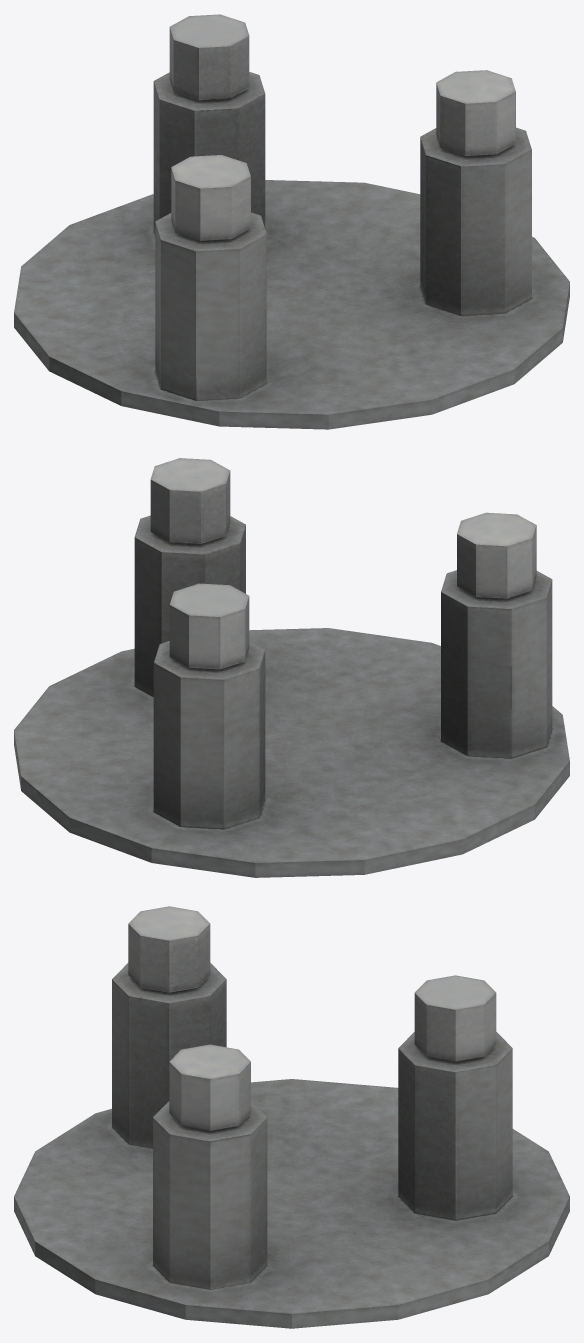
The model's file is com_rifle_squad.glb.
The picture shows the model from 3 angles, top to bottom: view 1: azimuth 30°, elevation 25°; view 2: azimuth 150°, elevation 25°; view 3: azimuth 270°, elevation 25°; orthographic projection.
Visible parts, largest first — view 1: com_rifle_squad; view 2: com_rifle_squad; view 3: com_rifle_squad.
Part boxes in pixels (x1,y1,x2,y2): com_rifle_squad: (14, 14, 569, 429); com_rifle_squad: (14, 458, 569, 877); com_rifle_squad: (14, 906, 569, 1328).
Bounding box in the file's own units: 0.68 × 0.295 × 0.68.
Materials: 1 (1 with a texture image).
